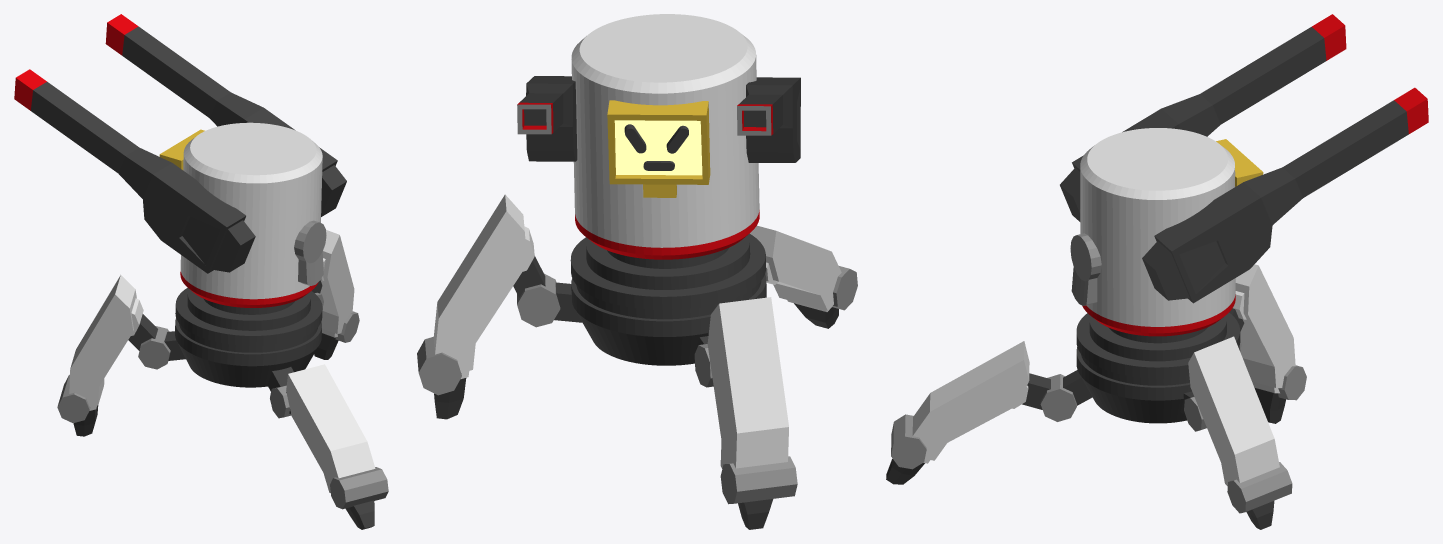
File: Map.glb
3 renders of one model, left to right at view 1: azimuth 30°, elevation 25°; view 2: azimuth 150°, elevation 25°; view 3: azimuth 270°, elevation 25°, orthographic. The views are drawn at different scales.
Parts seen in each view (by area): view 1: Cylinder.003, Cube.031, Cylinder.008, Cube.043, Cube.001, Cube.046, Cube.049, Cylinder.009, Cylinder.018, Cylinder.007, Cylinder.016, Cube.030 (+1 smaller); view 2: Cylinder.003, Cylinder.008, Cube.046, Cube.049, Cube.030, Cube.043, Cube.031, Cube.001, Cylinder.020, Cylinder.007, Cube.047, Cube.048 (+1 smaller); view 3: Cylinder.003, Cube.001, Cube.049, Cylinder.008, Cube.031, Cube.043, Cube.046, Cylinder.009, Cylinder.016, Cube.030, Cube.042.
Part boxes in pixels (x1,y1,x2,y2): Cylinder.003: [180, 122, 322, 307]; Cube.031: [14, 69, 255, 273]; Cylinder.008: [175, 287, 322, 387]; Cube.043: [286, 364, 388, 529]; Cube.001: [105, 14, 346, 216]; Cube.046: [57, 275, 136, 436]; Cube.049: [314, 230, 359, 359]; Cylinder.009: [294, 220, 326, 285]; Cylinder.018: [138, 326, 170, 369]; Cylinder.007: [203, 298, 294, 314]; Cylinder.016: [270, 385, 291, 418]; Cube.030: [159, 129, 204, 169]; Cylinder.003: [571, 14, 759, 259]; Cylinder.008: [570, 233, 766, 365]; Cube.046: [707, 297, 797, 529]; Cube.049: [417, 194, 527, 419]; Cube.030: [607, 100, 710, 197]; Cube.043: [750, 225, 857, 328]; Cube.031: [737, 77, 800, 162]; Cube.001: [517, 76, 577, 161]; Cylinder.020: [517, 273, 560, 327]; Cylinder.007: [607, 248, 728, 268]; Cube.047: [554, 282, 582, 322]; Cube.048: [513, 256, 545, 297]; Cylinder.003: [1080, 128, 1235, 336]; Cube.001: [1142, 87, 1428, 303]; Cube.049: [1188, 336, 1292, 529]; Cylinder.008: [1076, 313, 1240, 423]; Cube.031: [1060, 14, 1346, 221]; Cube.043: [886, 341, 1029, 484]; Cube.046: [1235, 264, 1306, 423]; Cylinder.009: [1070, 233, 1101, 305]; Cylinder.016: [1040, 374, 1076, 421]; Cube.030: [1216, 139, 1263, 186]; Cube.042: [1022, 373, 1050, 409].
Bounding box in the file's own units: 3.19 × 3.45 × 4.4.
